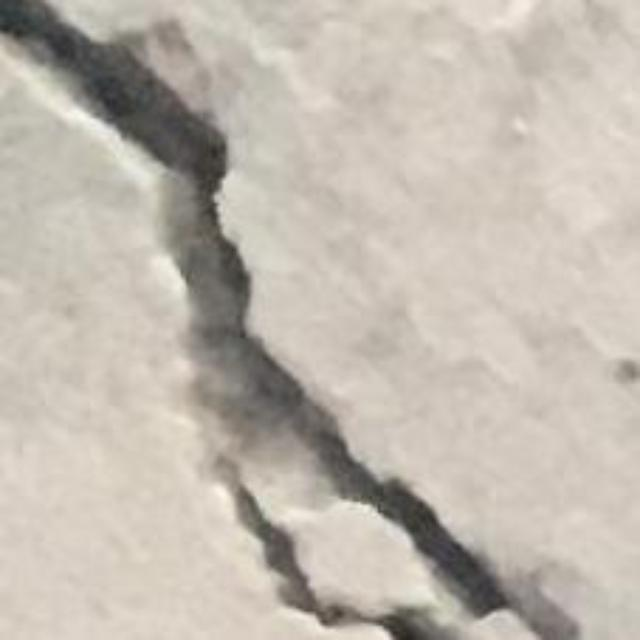crack: (0, 0, 577, 639)
